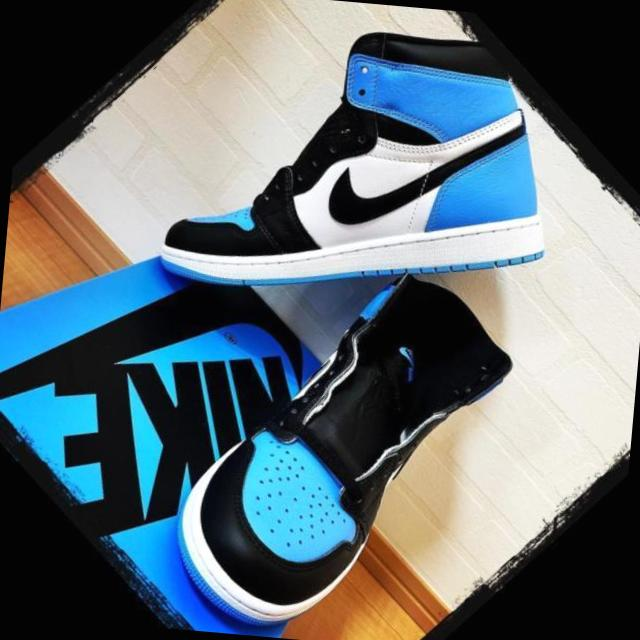nike_original_jordan: (118, 0, 632, 477), (131, 243, 558, 640)
